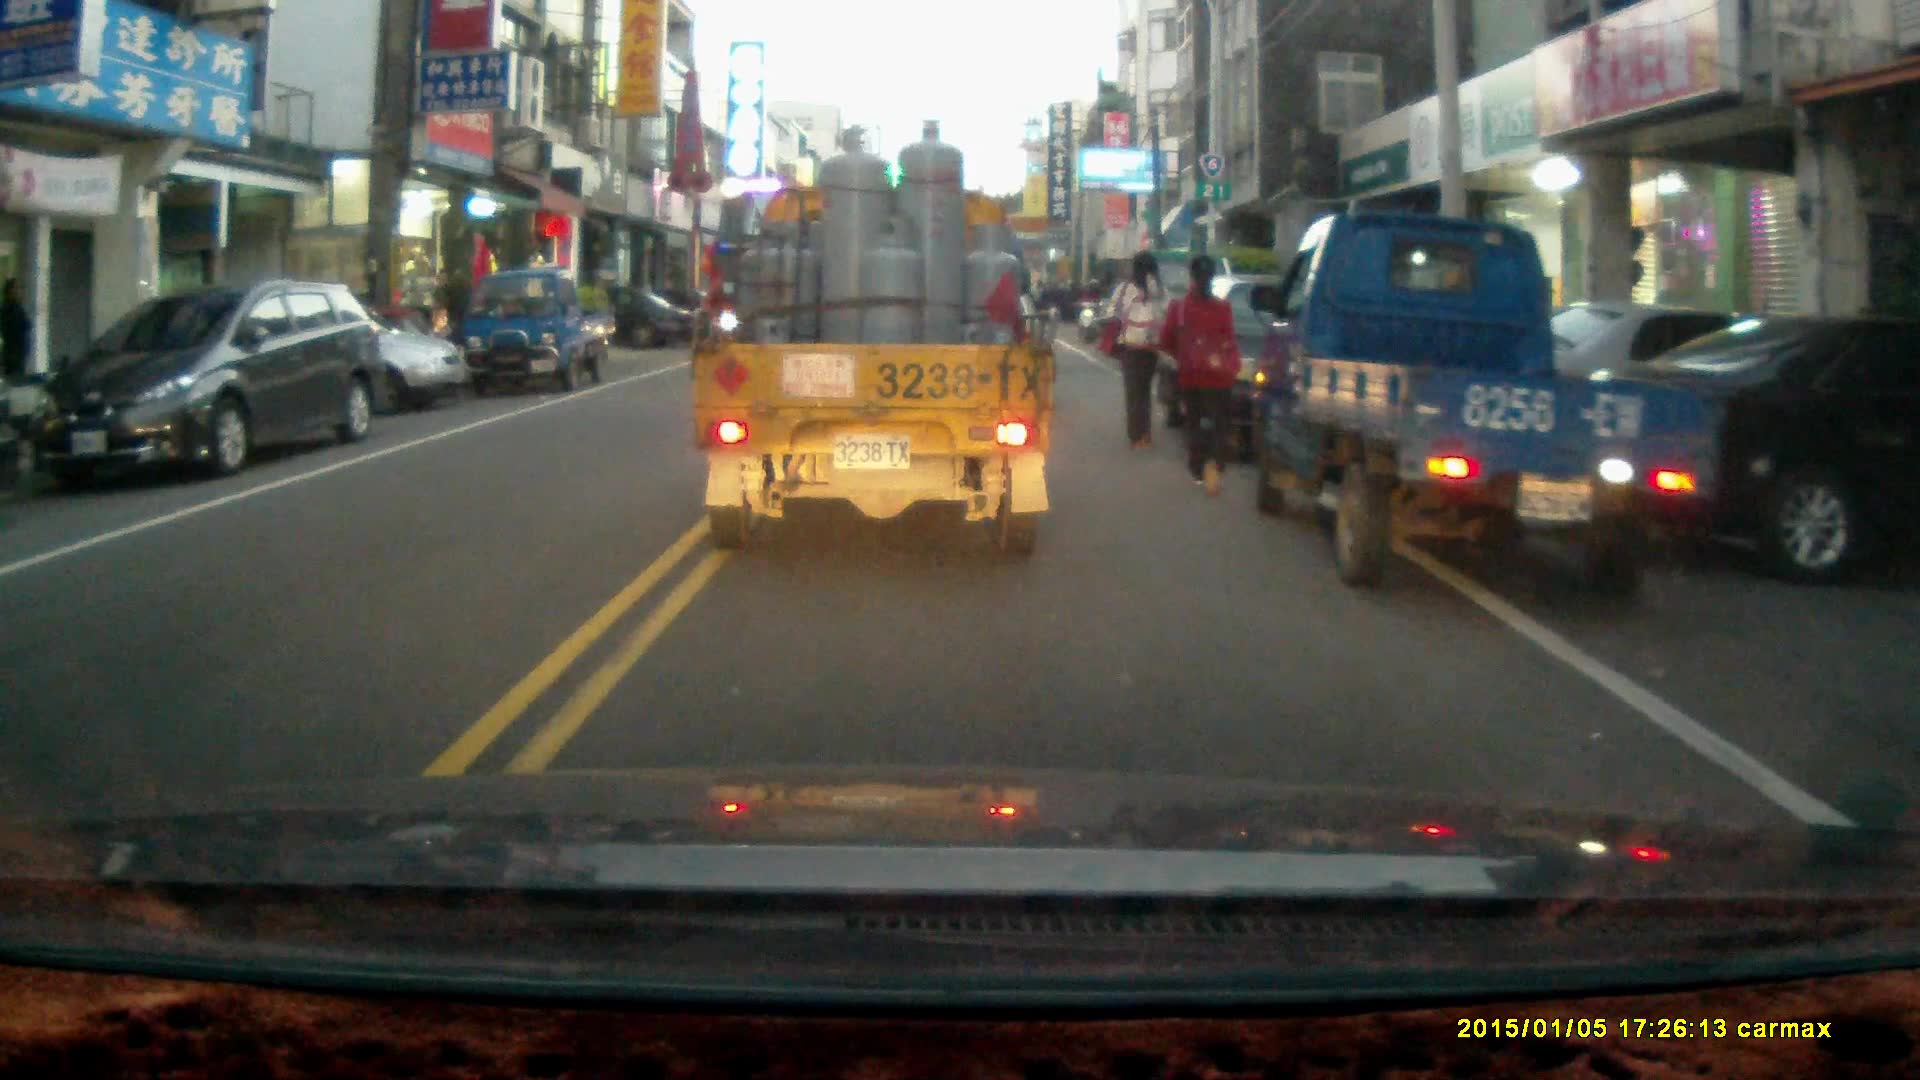pedestrian: (1155, 253, 1239, 493), (1103, 246, 1171, 449), (0, 278, 33, 409)
rider: (1072, 274, 1104, 340)
vehicle: (1247, 211, 1716, 608), (689, 121, 1057, 560), (32, 281, 383, 484), (185, 294, 470, 423), (458, 274, 607, 402)
